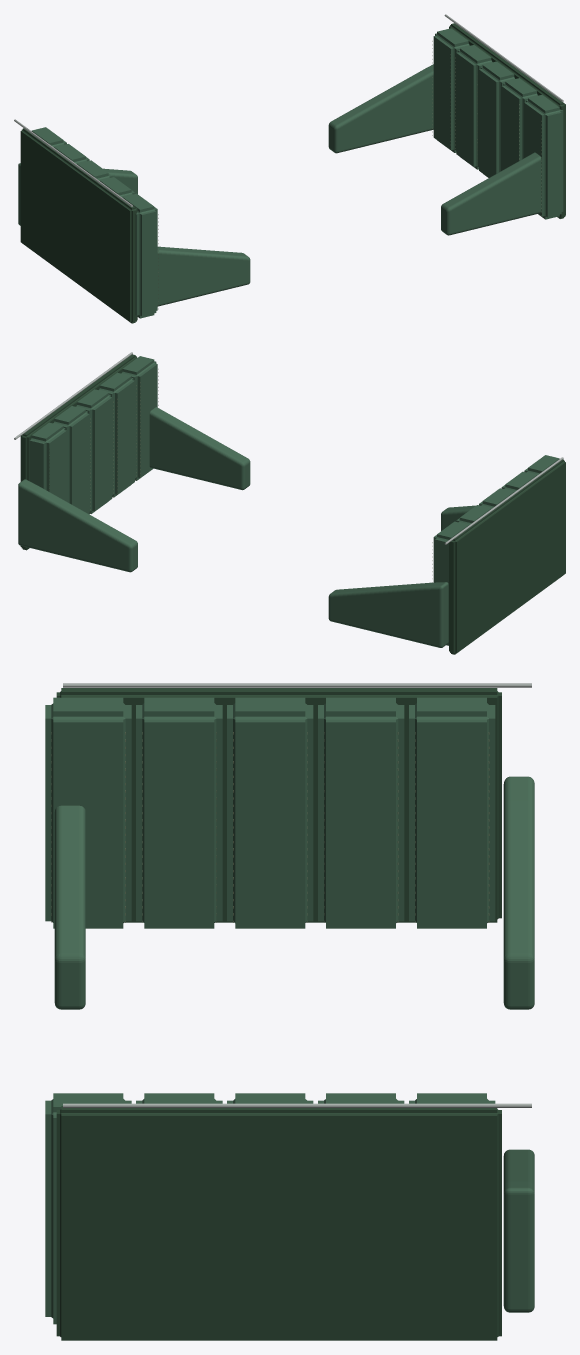
The model's file is diner-upholstery.glb.
The picture shows the model from 3 angles, top to bottom: view 1: azimuth 30°, elevation 25°; view 2: azimuth 150°, elevation 25°; view 3: azimuth 270°, elevation 25°; orthographic projection. The views are drawn at different scales.
Parts seen in each view (by area): view 1: Upholstery_Booth repaired forest green vinyl, Upholstery_Booth repaired deeper sidewall, Upholstery_Booth repaired brushed chrome; view 2: Upholstery_Booth repaired forest green vinyl, Upholstery_Booth repaired deeper sidewall, Upholstery_Booth repaired brushed chrome; view 3: Upholstery_Booth repaired forest green vinyl, Upholstery_Booth repaired deeper sidewall, Upholstery_Booth repaired brushed chrome, Upholstery_Booth repaired linen seam.
Part boxes in pixels (x1,y1,x2,y2): Upholstery_Booth repaired forest green vinyl: (18,28,563,318); Upholstery_Booth repaired deeper sidewall: (20,23,565,323); Upholstery_Booth repaired brushed chrome: (14,14,563,206); Upholstery_Booth repaired forest green vinyl: (18,356,559,647); Upholstery_Booth repaired deeper sidewall: (20,354,565,654); Upholstery_Booth repaired brushed chrome: (14,352,563,544); Upholstery_Booth repaired forest green vinyl: (45,697,534,1324); Upholstery_Booth repaired deeper sidewall: (56,688,501,1340); Upholstery_Booth repaired brushed chrome: (63,683,531,1107); Upholstery_Booth repaired linen seam: (51,732,489,922).
Size of the model in its own units: 5.54 by 1.43 by 2.69.
